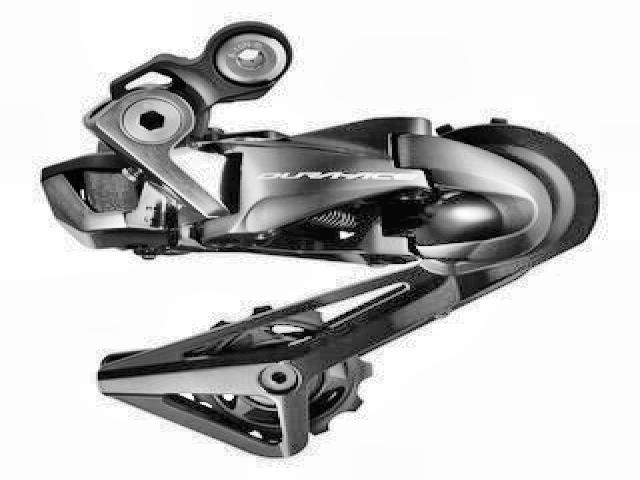rear_derailleur: (35, 19, 602, 459)
